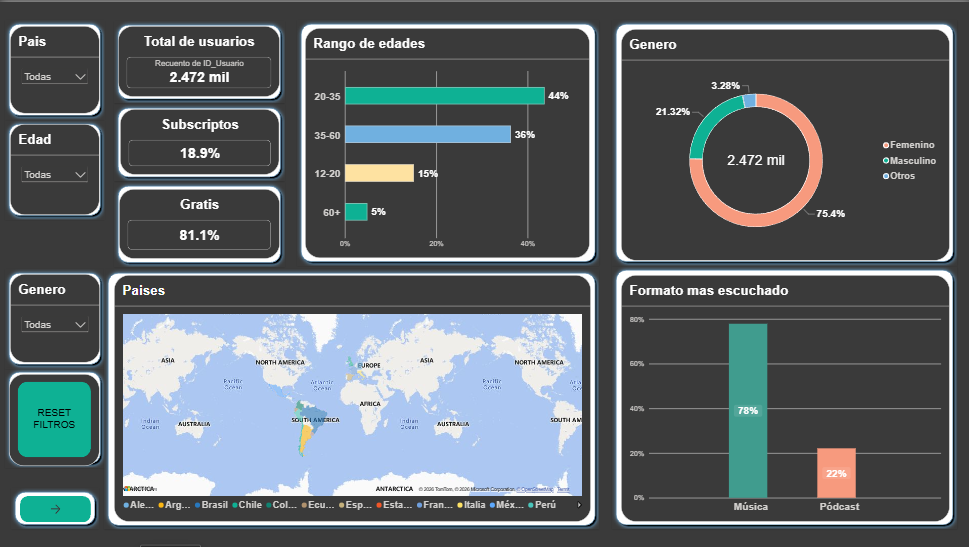

The dashboard page shown, as its layout file describes it:
{"tool":"powerbi","page":{"name":"pagina 1","canvas":[1920,1080],"ordinal":0},"visuals":[{"type":"shape","box":[20.8,961.3,174.1,80.5],"z":0},{"type":"shape","box":[206.6,527.4,979.4,515.2],"z":1000},{"type":"shape","box":[9.7,724.3,196.9,196.9],"z":2000},{"type":"shape","box":[9.7,233.3,196.9,196.9],"z":3000},{"type":"shape","box":[9.7,527.4,196.9,196.9],"z":4000},{"type":"shape","box":[9.7,36.5,196.9,196.9],"z":5000},{"type":"shape","box":[1210,522.5,682.5,520],"z":6000},{"type":"shape","box":[588.2,36.5,597.9,486.1],"z":7000},{"type":"shape","box":[225,37.5,337.5,162.5],"z":8000},{"type":"shape","box":[1210.3,36.5,682.9,486.1],"z":9000},{"type":"slicer","title":"Pais","fields":{"Values":["Sheet1.pais"]},"box":[19.8,47.5,177.4,172.6],"z":10000},{"type":"slicer","title":"Edad","fields":{"Values":["Sheet1.Rango_Edad"]},"box":[19.4,240.6,177.4,179.8],"z":11000},{"type":"slicer","title":"Genero","fields":{"Values":["Sheet1.Genero"]},"box":[20,537.5,177.5,175],"z":12000},{"type":"actionButton","title":"RESET","box":[18.2,735.3,179.3,181.9],"z":13000},{"type":"filledMap","title":"Paises","fields":{"Category":["Sheet1.pais"],"Series":["Sheet1.pais"]},"box":[225,540,942.5,487.5],"z":14000},{"type":"cardVisual","title":"Total de usuarios","fields":{"Data":["CountNonNull(Sheet1.ID_Usuario)"]},"box":[232.5,47.5,320,140],"z":15000},{"type":"shape","box":[225,202.5,337.5,152.5],"z":16000},{"type":"clusteredBarChart","title":"Rango de edades","fields":{"Category":["Sheet1.Rango_Edad"],"Y":["Sheet1.% del total"]},"box":[602.8,52,562.5,455],"z":17000},{"type":"donutChart","title":"Genero","fields":{"Category":["Sheet1.Genero"],"Y":["CountNonNull(Sheet1.ID_Usuario)"]},"box":[1227.5,52.5,650,457.5],"z":18000},{"type":"columnChart","title":"Formato mas escuchado","fields":{"Category":["Sheet1.Contenido_Preferido"],"Y":["Sheet1.% del total"]},"box":[1227.5,540,650,487.5],"z":19000},{"type":"shape","box":[225,355,337.5,167.5],"z":20000},{"type":"cardVisual","title":"Subscriptos","fields":{"Data":["Sheet1.% Suscriptos"]},"box":[237.5,212.5,315,130],"z":21000},{"type":"cardVisual","title":"Gratis","fields":{"Data":["Sheet1.% Gratuitos"]},"box":[235,370,317.5,137.5],"z":22000},{"type":"actionButton","box":[39,976.9,140.3,52],"z":23000}]}

Visuals, with their boxes in screenshot pixels (x1, y1, x2, y2), scaled from the page's 1920x1080 canvas onto the 969x547 screenshot:
shape: l=10, t=487, r=98, b=528
shape: l=104, t=267, r=599, b=528
shape: l=5, t=367, r=104, b=467
shape: l=5, t=118, r=104, b=218
shape: l=5, t=267, r=104, b=367
shape: l=5, t=18, r=104, b=118
shape: l=611, t=265, r=955, b=528
shape: l=297, t=18, r=599, b=265
shape: l=114, t=19, r=284, b=101
shape: l=611, t=18, r=955, b=265
"Pais" slicer: l=10, t=24, r=100, b=111
"Edad" slicer: l=10, t=122, r=99, b=213
"Genero" slicer: l=10, t=272, r=100, b=361
"RESET" actionButton: l=9, t=372, r=100, b=465
"Paises" filledMap: l=114, t=274, r=589, b=520
"Total de usuarios" cardVisual: l=117, t=24, r=279, b=95
shape: l=114, t=103, r=284, b=180
"Rango de edades" clusteredBarChart: l=304, t=26, r=588, b=257
"Genero" donutChart: l=620, t=27, r=948, b=258
"Formato mas escuchado" columnChart: l=620, t=274, r=948, b=520
shape: l=114, t=180, r=284, b=265
"Subscriptos" cardVisual: l=120, t=108, r=279, b=173
"Gratis" cardVisual: l=119, t=187, r=279, b=257
actionButton: l=20, t=495, r=90, b=521
